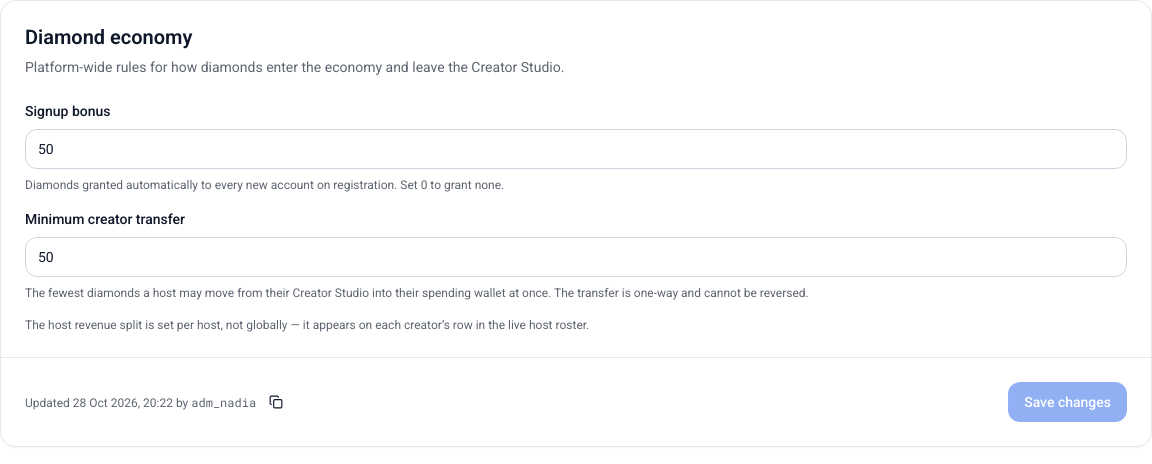
Test: saving › refuses a negative value in the server’s own wording
The image size is (1152, 464).
Step 1. Replace the text in the field labelled "Signup bonus" with "-1" → (576, 149), box [25, 129, 1127, 169]
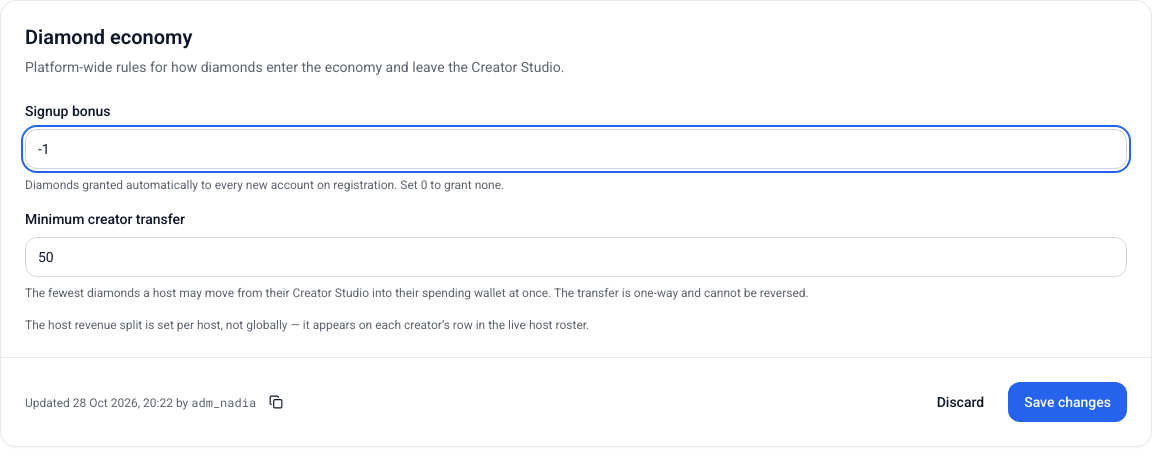
Step 2. Click the button "Save changes" → (1068, 402), box [1008, 382, 1127, 422]
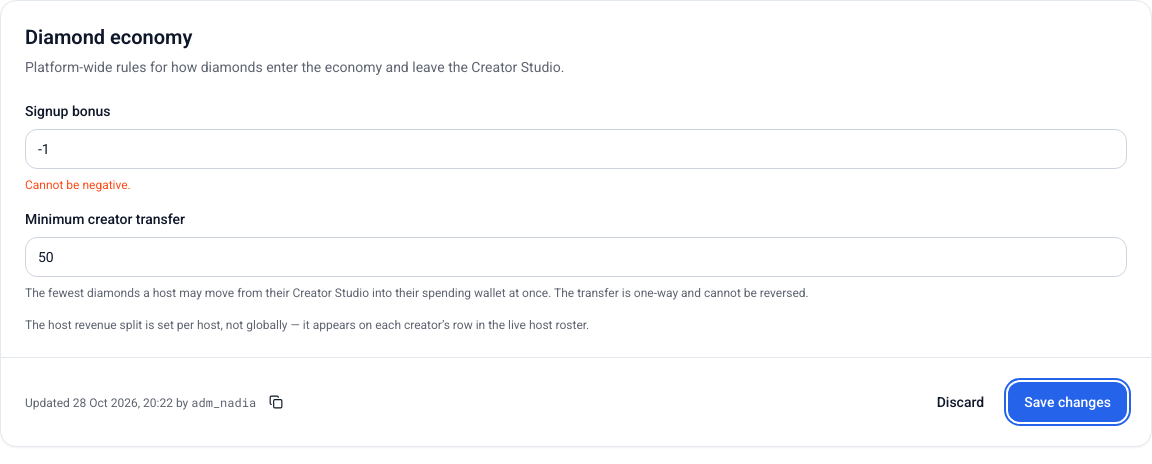
Now the text "Cannot be negative." is shown, box [25, 178, 131, 192]
